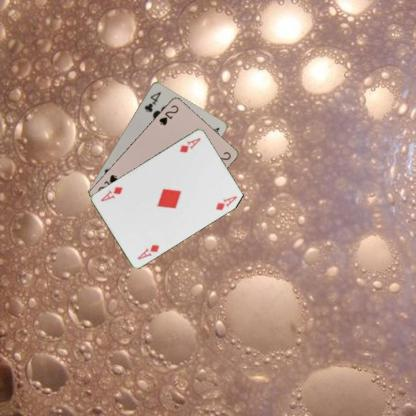2s: (156, 102, 180, 127)
4c: (141, 89, 162, 113)
Ad: (176, 135, 202, 154), (135, 242, 161, 260)
